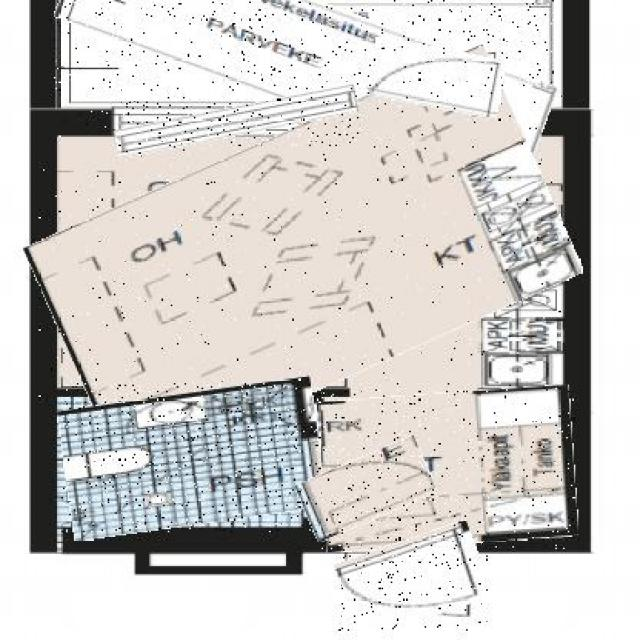door: (338, 531, 488, 631), (300, 446, 435, 531), (369, 43, 505, 114)
window: (115, 97, 358, 146)
zone: (38, 91, 570, 431), (54, 0, 555, 145), (320, 389, 575, 549), (62, 383, 323, 532)
